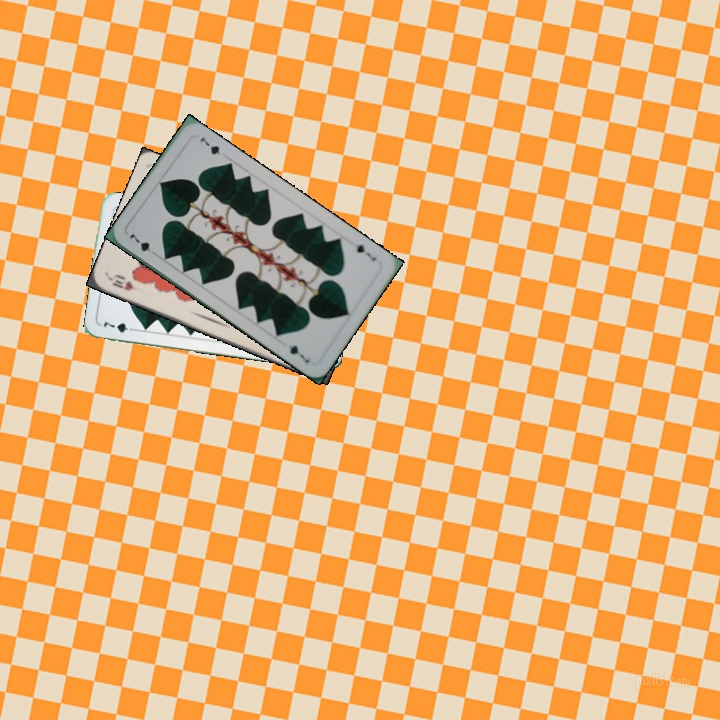G7: (125, 230, 160, 258), (100, 316, 139, 335), (349, 238, 378, 263)
H10: (105, 271, 143, 294)
